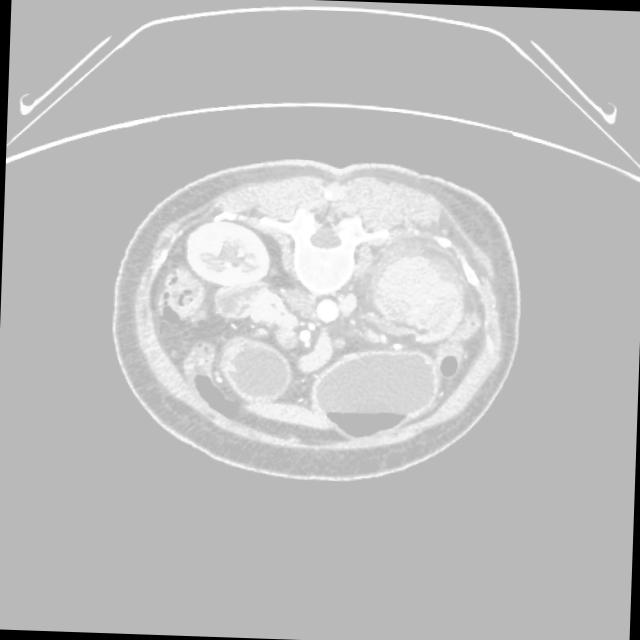TUMOR: (151, 231, 535, 459)
